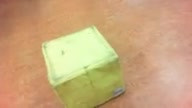cube: (41, 25, 126, 108)
